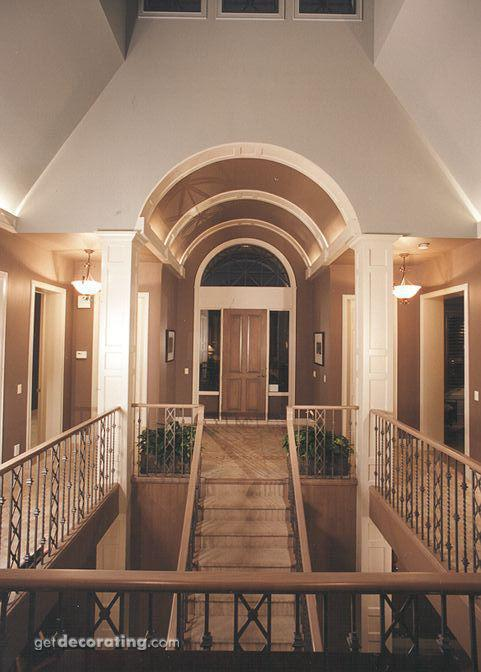Escaleras: (176, 409, 321, 644)
